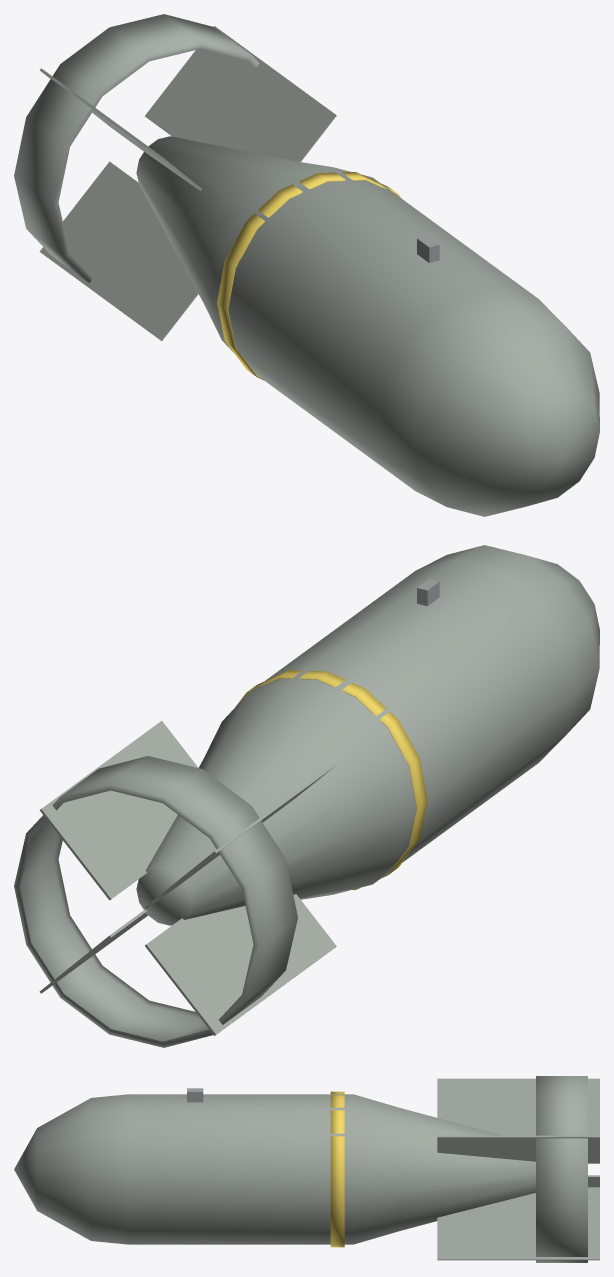
3 renders of one model, top to bottom at view 1: azimuth 30°, elevation 25°; view 2: azimuth 150°, elevation 25°; view 3: azimuth 270°, elevation 25°, orthographic. The views are drawn at different scales.
Visible parts, largest first — view 1: sc1000_body; view 2: sc1000_body; view 3: sc1000_body.
Boxes of the visible parts, <box> form: sc1000_body: <box>14,14,599,516</box>; sc1000_body: <box>14,545,599,1047</box>; sc1000_body: <box>14,1076,599,1262</box>.
Size of the model in its own units: 0.8184 by 0.7979 by 2.51.
